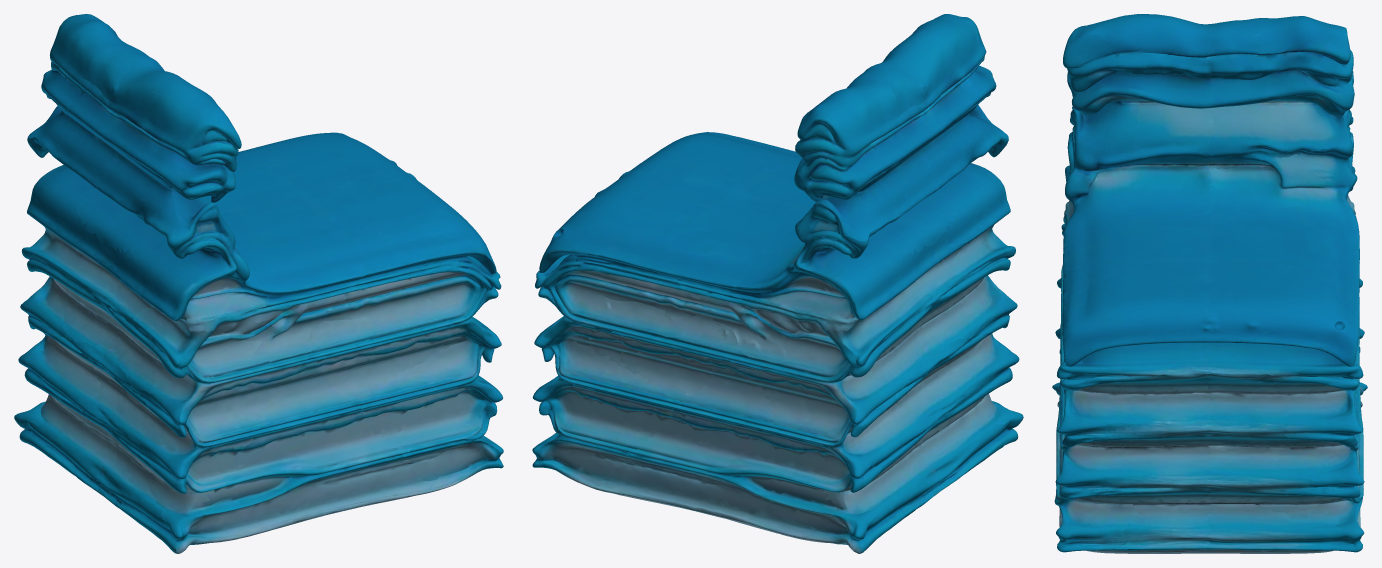
Rendered from 06_1_nz_scb_chair.glb.
3 renders of one model, left to right at view 1: azimuth 30°, elevation 25°; view 2: azimuth 150°, elevation 25°; view 3: azimuth 270°, elevation 25°, orthographic. The views are drawn at different scales.
Parts seen in each view (by area): view 1: tripo_node_99c22ac5-3caa-41d4-aa09-af19816c3d13; view 2: tripo_node_99c22ac5-3caa-41d4-aa09-af19816c3d13; view 3: tripo_node_99c22ac5-3caa-41d4-aa09-af19816c3d13.
Boxes of the visible parts, left/top/right/bottom form: tripo_node_99c22ac5-3caa-41d4-aa09-af19816c3d13: left=14, top=14, right=503, bottom=553; tripo_node_99c22ac5-3caa-41d4-aa09-af19816c3d13: left=532, top=14, right=1023, bottom=553; tripo_node_99c22ac5-3caa-41d4-aa09-af19816c3d13: left=1052, top=14, right=1367, bottom=553.
Size of the model in its own units: 0.6501 by 0.82 by 0.5621.
Materials: 1 (1 with a texture image).
